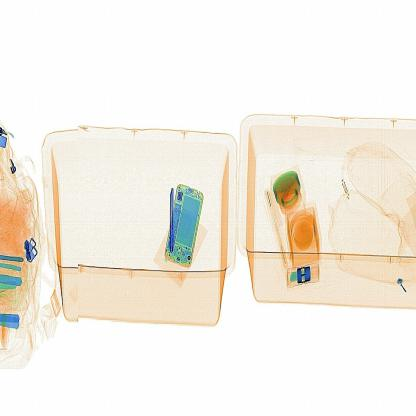pliers: (159, 176, 183, 255)
